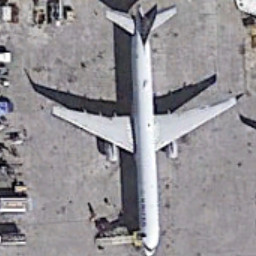Airplane: (47, 3, 246, 256)
